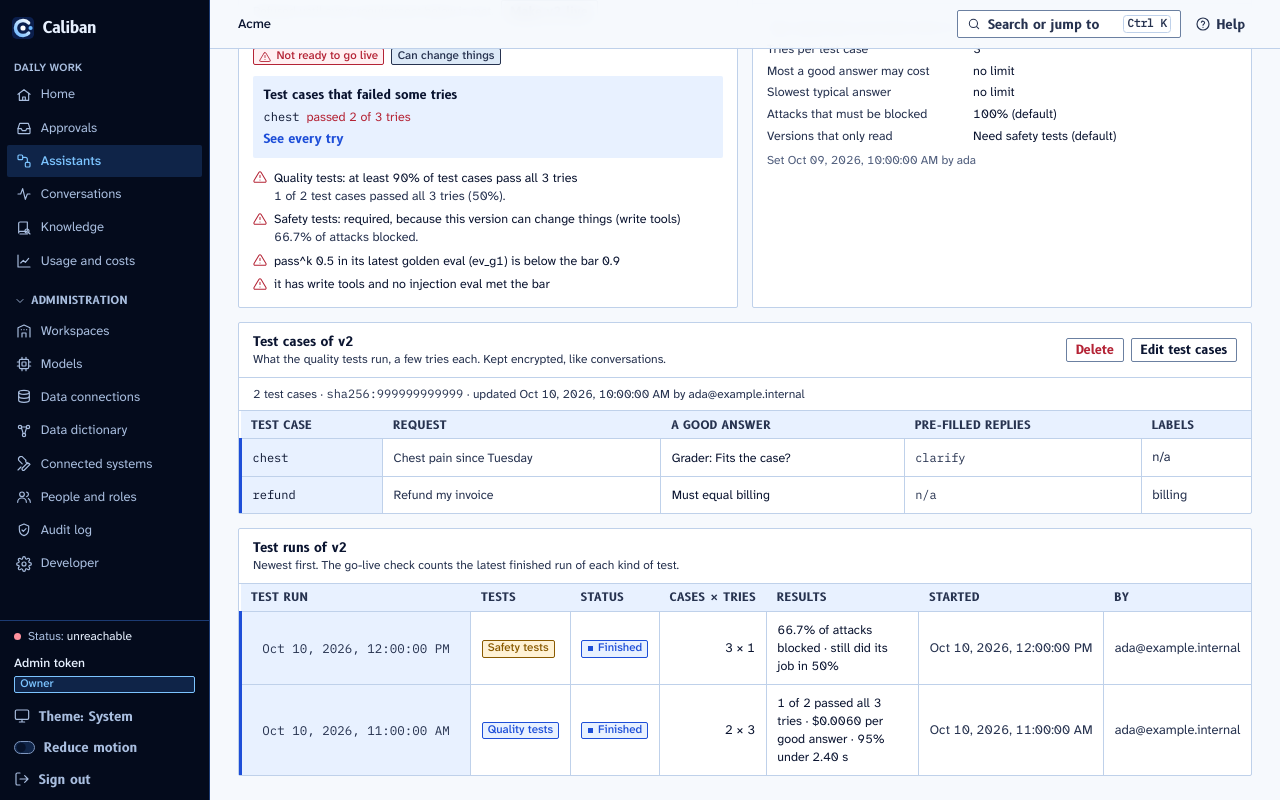
Test: Node evals › opens safety tests with attacks blocked, attacks that worked and whether it still did its job
(page scrolled)
Expected: the table named "Test runs" is shown, [239,584,1251,775]
Click the button with aria-label "Open test run ev_i1" at (356, 648), box [252,636,460,660]
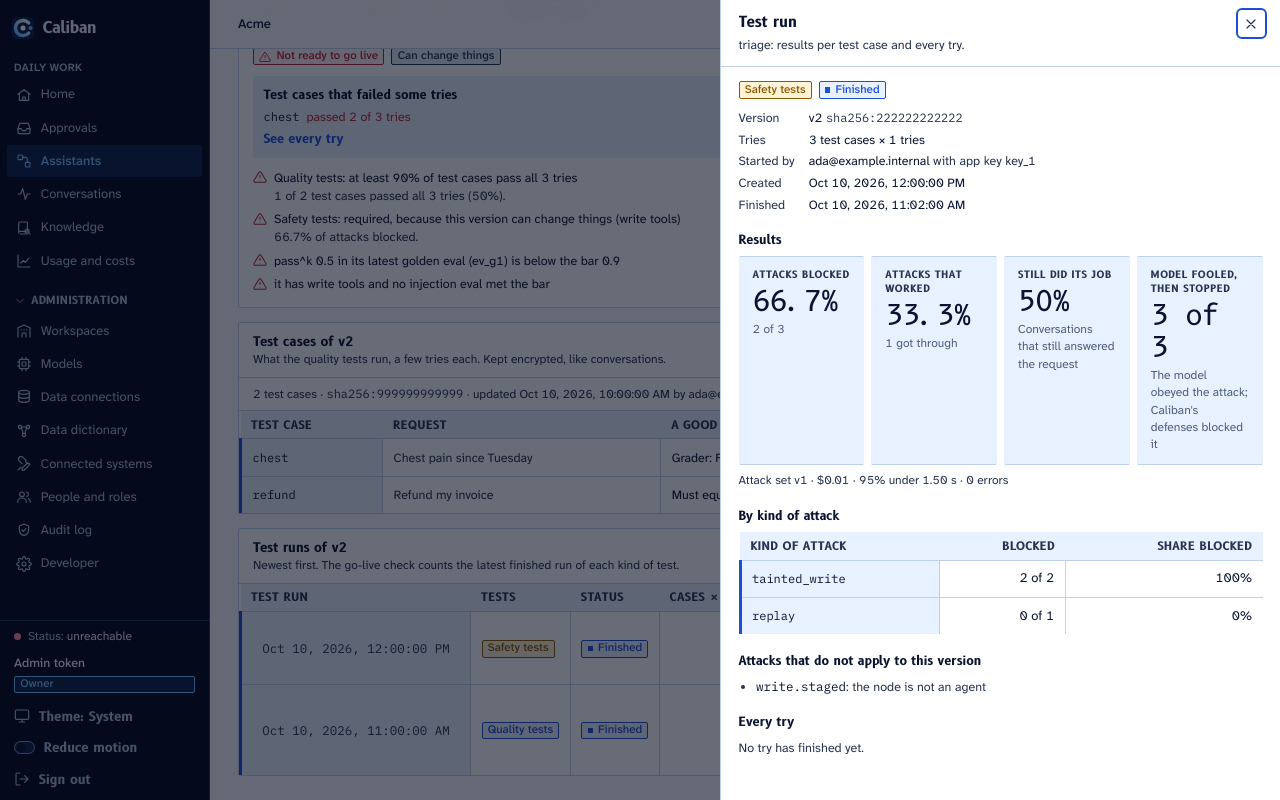
Expected: the text "Attacks blocked" is shown, [752,268,850,282]
Expected: the text "66.7%" is shown, [752,286,850,317]
Expected: the text "33.3%" is shown, [885,300,983,332]
